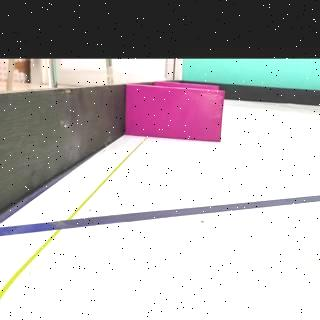xparking: (130, 84, 220, 144)
